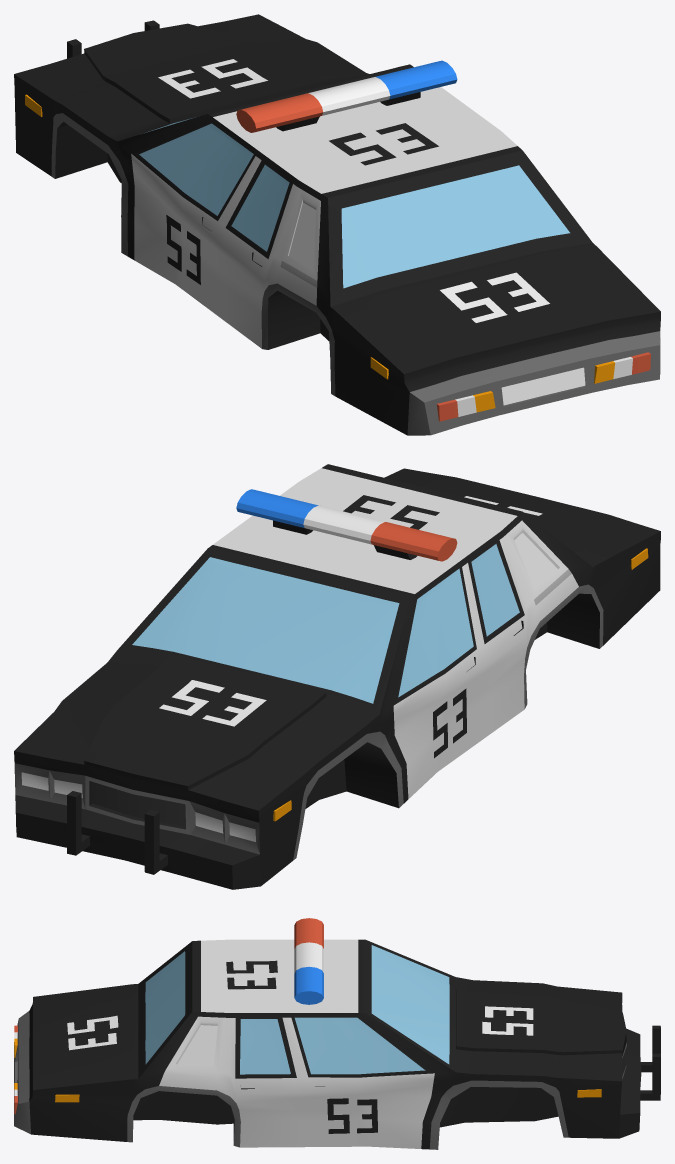
File: police.glb
3 renders of one model, top to bottom at view 1: azimuth 30°, elevation 25°; view 2: azimuth 150°, elevation 25°; view 3: azimuth 270°, elevation 25°, orthographic. The views are drawn at different scales.
Parts seen in each view (by area): view 1: police; view 2: police; view 3: police.
Boxes of the visible parts, left/top/right/bottom form: police: left=14, top=14, right=660, bottom=435; police: left=14, top=464, right=660, bottom=889; police: left=14, top=918, right=660, bottom=1149.
Bounding box in the file's own units: 1.2 × 0.8087 × 3.26.
1 material, 1 textured.
